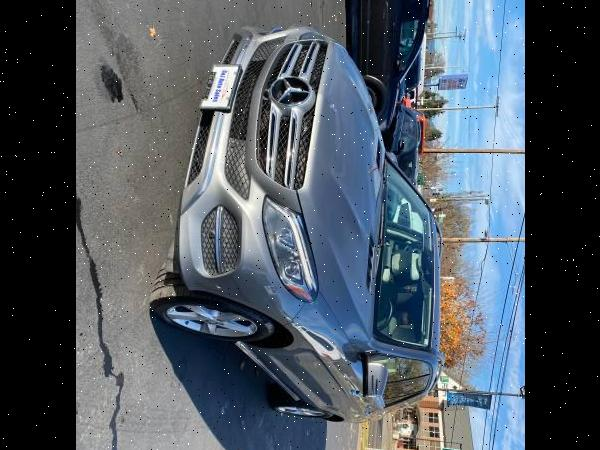Front_Bumper: (176, 19, 317, 319)
Front_Fender: (236, 288, 363, 362)
Front_Left_Door: (243, 348, 377, 393)
Front_Left_Window: (364, 353, 429, 390)
Front_Windshield: (366, 158, 430, 346)
Grille: (253, 37, 328, 191)
Hood: (297, 38, 386, 348)
Left_Headlight: (261, 189, 318, 297)
Rear_Left_Door: (284, 391, 381, 424)
Rear_Left_Window: (374, 377, 429, 411)
Roof: (363, 214, 440, 413)
Wheel: (155, 284, 277, 340), (278, 403, 333, 421)
